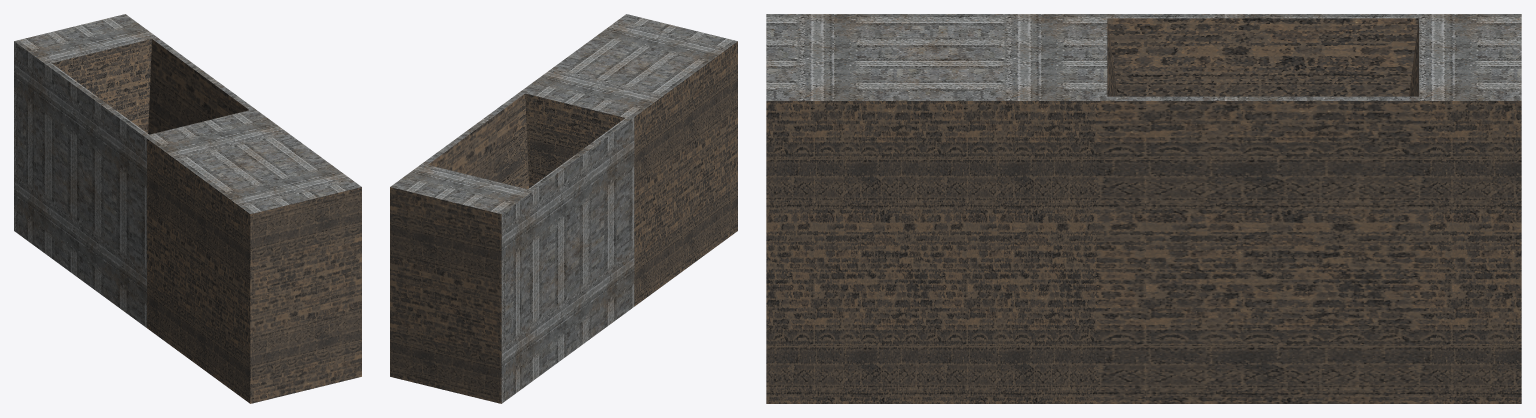
File: SM_FloorPitfall.fbx
3 views of the same model, side by side, from view 1: azimuth 30°, elevation 25°; view 2: azimuth 150°, elevation 25°; view 3: azimuth 270°, elevation 25° (orthographic). The views are drawn at different scales.
Visible parts, largest first — view 1: SM_FloorPitfall; view 2: SM_FloorPitfall; view 3: SM_FloorPitfall.
Boxes of the visible parts, bbox=[...] form: SM_FloorPitfall: bbox=[14, 14, 361, 403]; SM_FloorPitfall: bbox=[390, 14, 737, 403]; SM_FloorPitfall: bbox=[766, 14, 1521, 403].
Size of the model in its own units: 400 by 651 by 1469.
